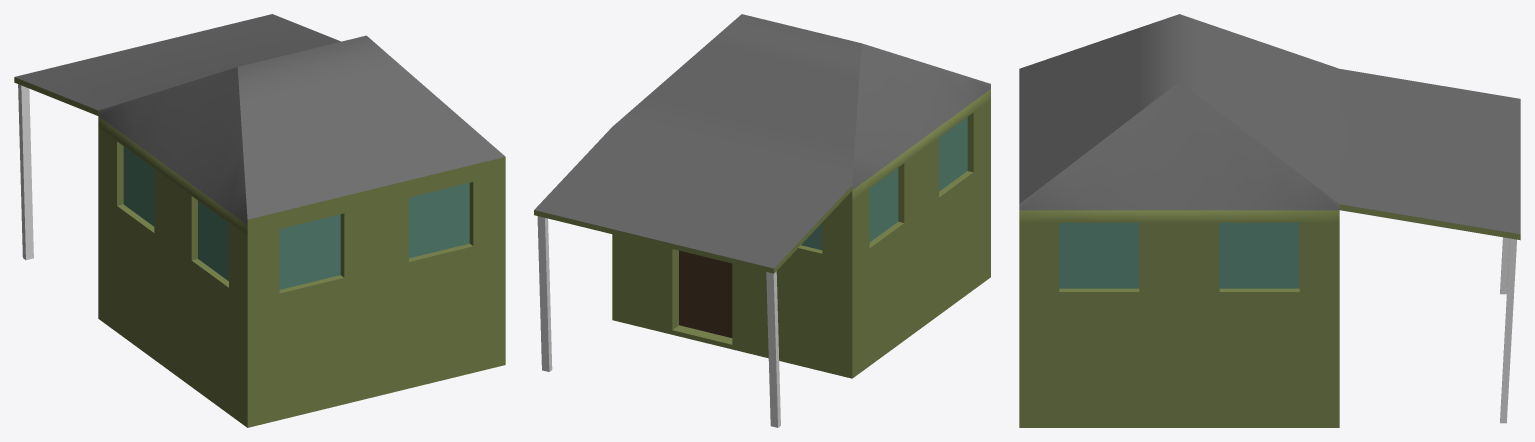
File: House3-3.fbx
3 views of the same model, side by side, from view 1: azimuth 30°, elevation 25°; view 2: azimuth 150°, elevation 25°; view 3: azimuth 270°, elevation 25° (orthographic). The views are drawn at different scales.
Visible parts, largest first — view 1: pCube4.002; view 2: pCube4.002; view 3: pCube4.002.
Boxes of the visible parts, box(x1,y1,x2,y2) form: pCube4.002: box(14, 14, 505, 427); pCube4.002: box(534, 14, 990, 427); pCube4.002: box(1019, 14, 1520, 427).
Bounding box in the file's own units: 8 × 8.61 × 12.52.
